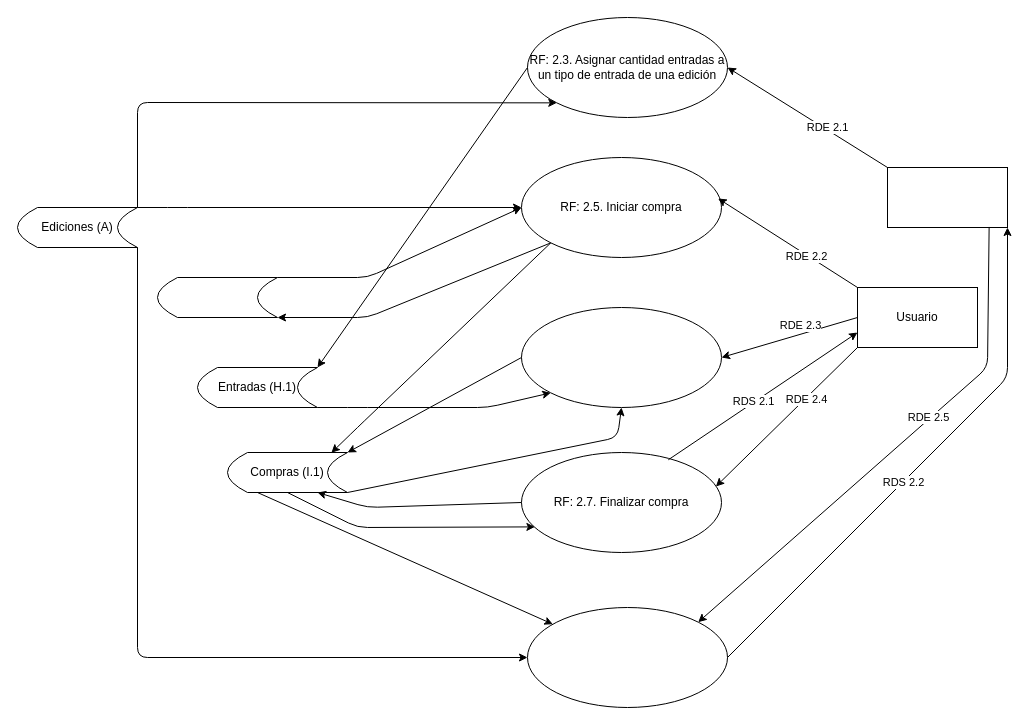
Some shapes in this 1033 by 725 pixel diagram are drawn without their labels. The box of each missing label's shape, as (x1, y1, x2, y2) in pixels:
Organizador: (886, 166, 1008, 228)
RF: 2.6. Añadir entradas a la compra: (520, 306, 722, 408)
RF: 2.9. Consultar dinero obtenido: (526, 606, 728, 708)
Usuarios (E.1): (156, 276, 278, 318)
